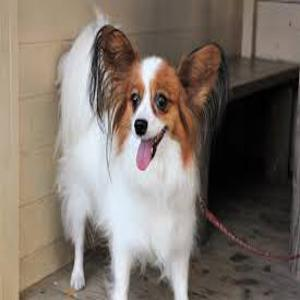yell: (54, 8, 224, 300)
